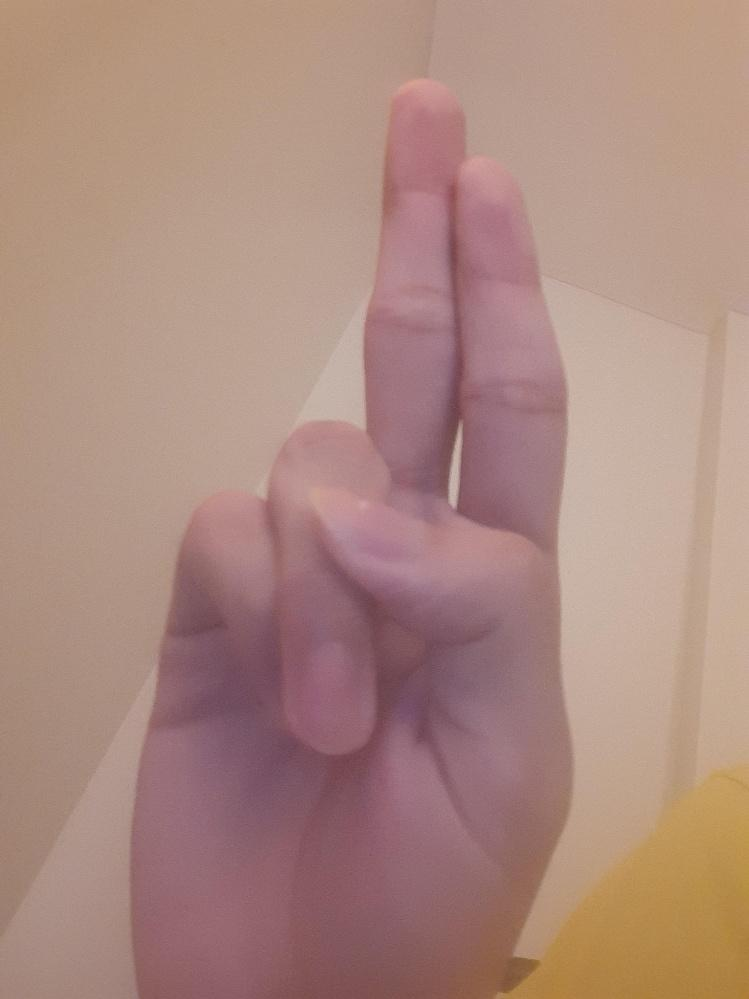u: (127, 76, 580, 999)
